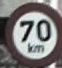Speed limit: (7, 2, 56, 61)
